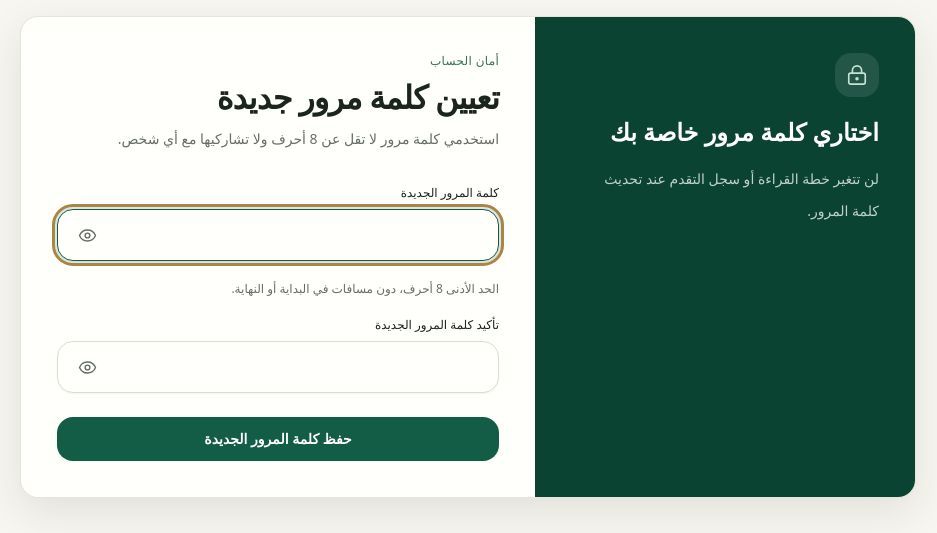
Scenario: ResetPasswordPage › invalidates the form when the recovery session expires during update
The image size is (937, 533).
Type "new-password-123" into the password field labelled "كلمة المرور الجديدة".
click(278, 235); type("new-password-123")  # box [57,209,499,261]
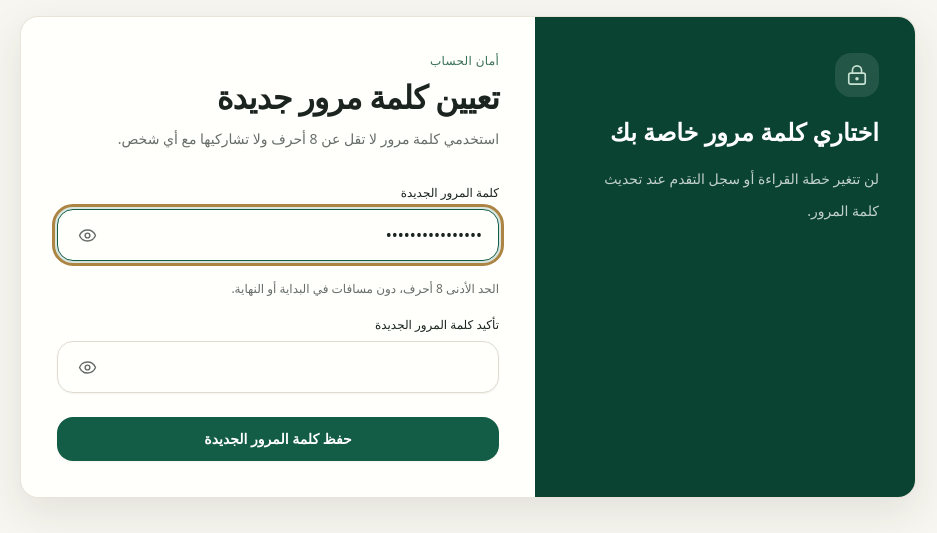
Type "new-password-123" into the password field labelled "تأكيد كلمة المرور الجديدة".
click(278, 367); type("new-password-123")  # box [57,341,499,393]
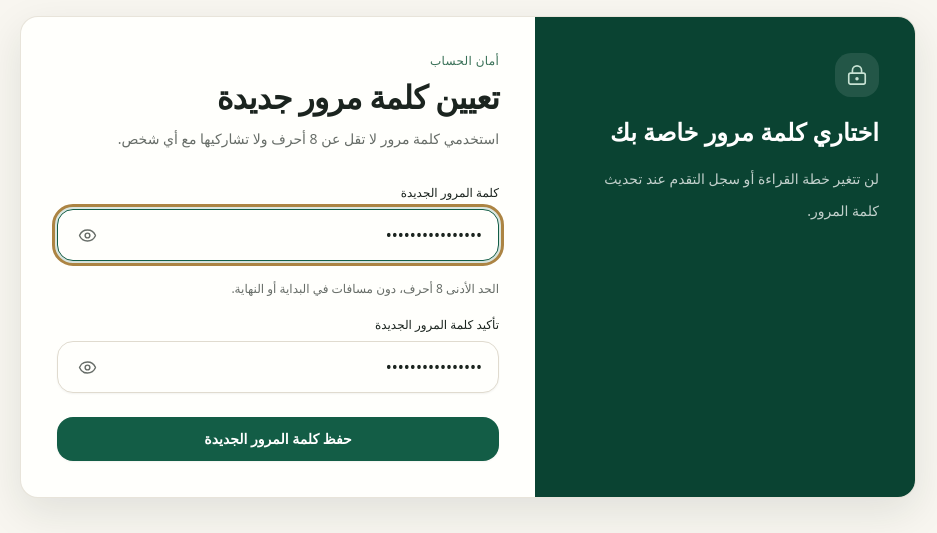
Click the button "حفظ كلمة المرور الجديدة".
click(278, 439)  # box [57,417,499,461]
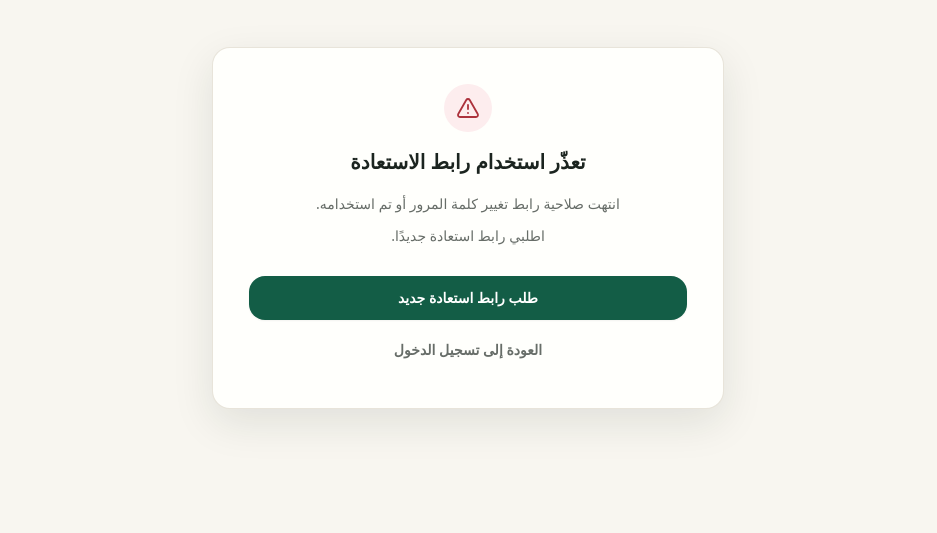
Now the heading "تعذّر استخدام رابط الاستعادة" is shown, box [350,148,586,175]
